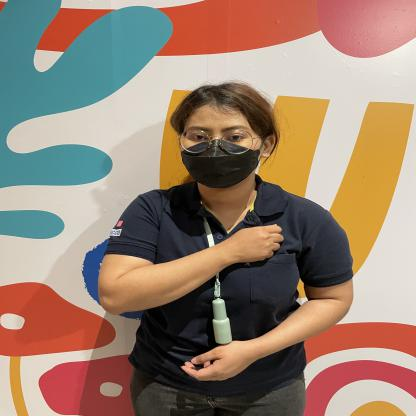Sadness: (98, 203, 326, 322)
